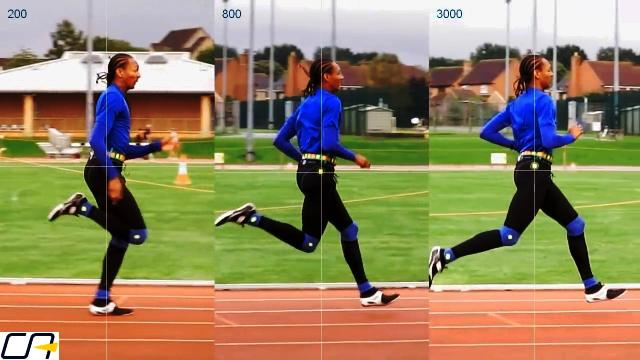berlari: (431, 58, 633, 312), (220, 53, 404, 310), (39, 46, 159, 320)
